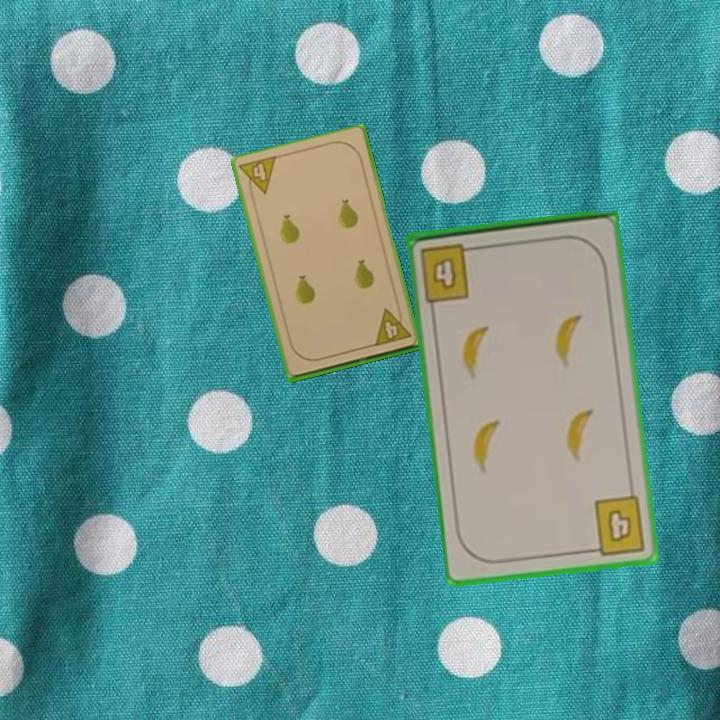4b: (416, 239, 481, 305), (585, 492, 649, 558)
4p: (236, 152, 279, 202), (370, 303, 414, 349)
